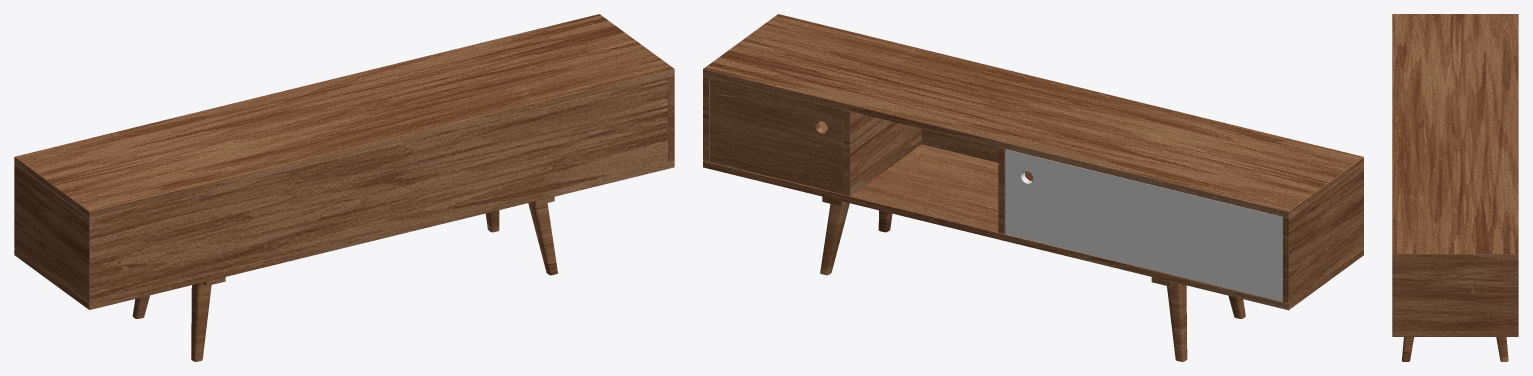
The picture shows the model from 3 angles, left to right: view 1: azimuth 30°, elevation 25°; view 2: azimuth 150°, elevation 25°; view 3: azimuth 270°, elevation 25°; orthographic projection. The views are drawn at different scales.
Visible parts, largest first — view 1: Geode; view 2: Geode; view 3: Geode.
Part boxes in pixels (<box>): Geode: <box>14,14,674,361</box>; Geode: <box>703,14,1363,361</box>; Geode: <box>1392,14,1518,361</box>.
Size of the model in its own units: 1800 by 535 by 400.
1 material, 1 textured.
